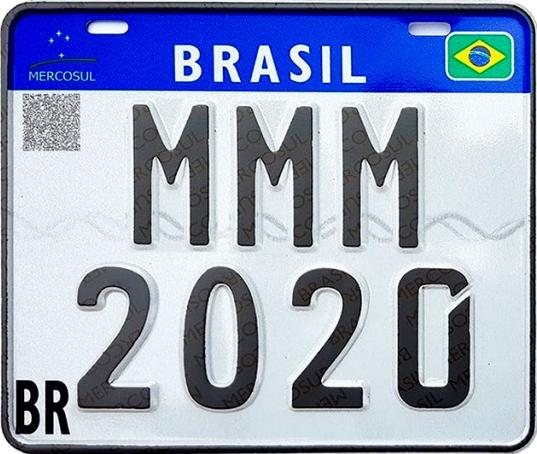Placa_mercosul_carro: (7, 9, 529, 446)
